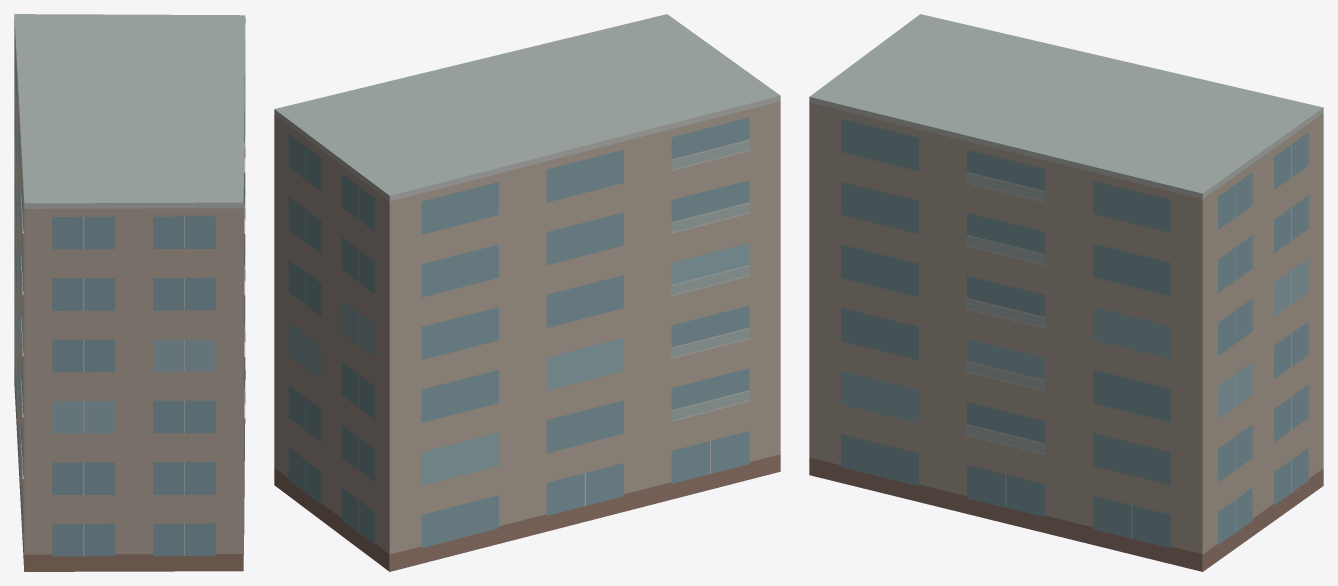
Rendered from survey-upis-32973821.glb.
The picture shows the model from 3 angles, left to right: view 1: azimuth 30°, elevation 25°; view 2: azimuth 150°, elevation 25°; view 3: azimuth 270°, elevation 25°; orthographic projection. The views are drawn at different scales.
Parts seen in each view (by area): view 1: survey-upis-32973821.tmp; view 2: survey-upis-32973821.tmp; view 3: survey-upis-32973821.tmp.
Boxes of the visible parts, x1,y1,x2,y2 form: survey-upis-32973821.tmp: [14, 14, 245, 571]; survey-upis-32973821.tmp: [274, 14, 780, 571]; survey-upis-32973821.tmp: [809, 14, 1323, 571].
Size of the model in its own units: 16.61 by 16.3 by 20.1.
